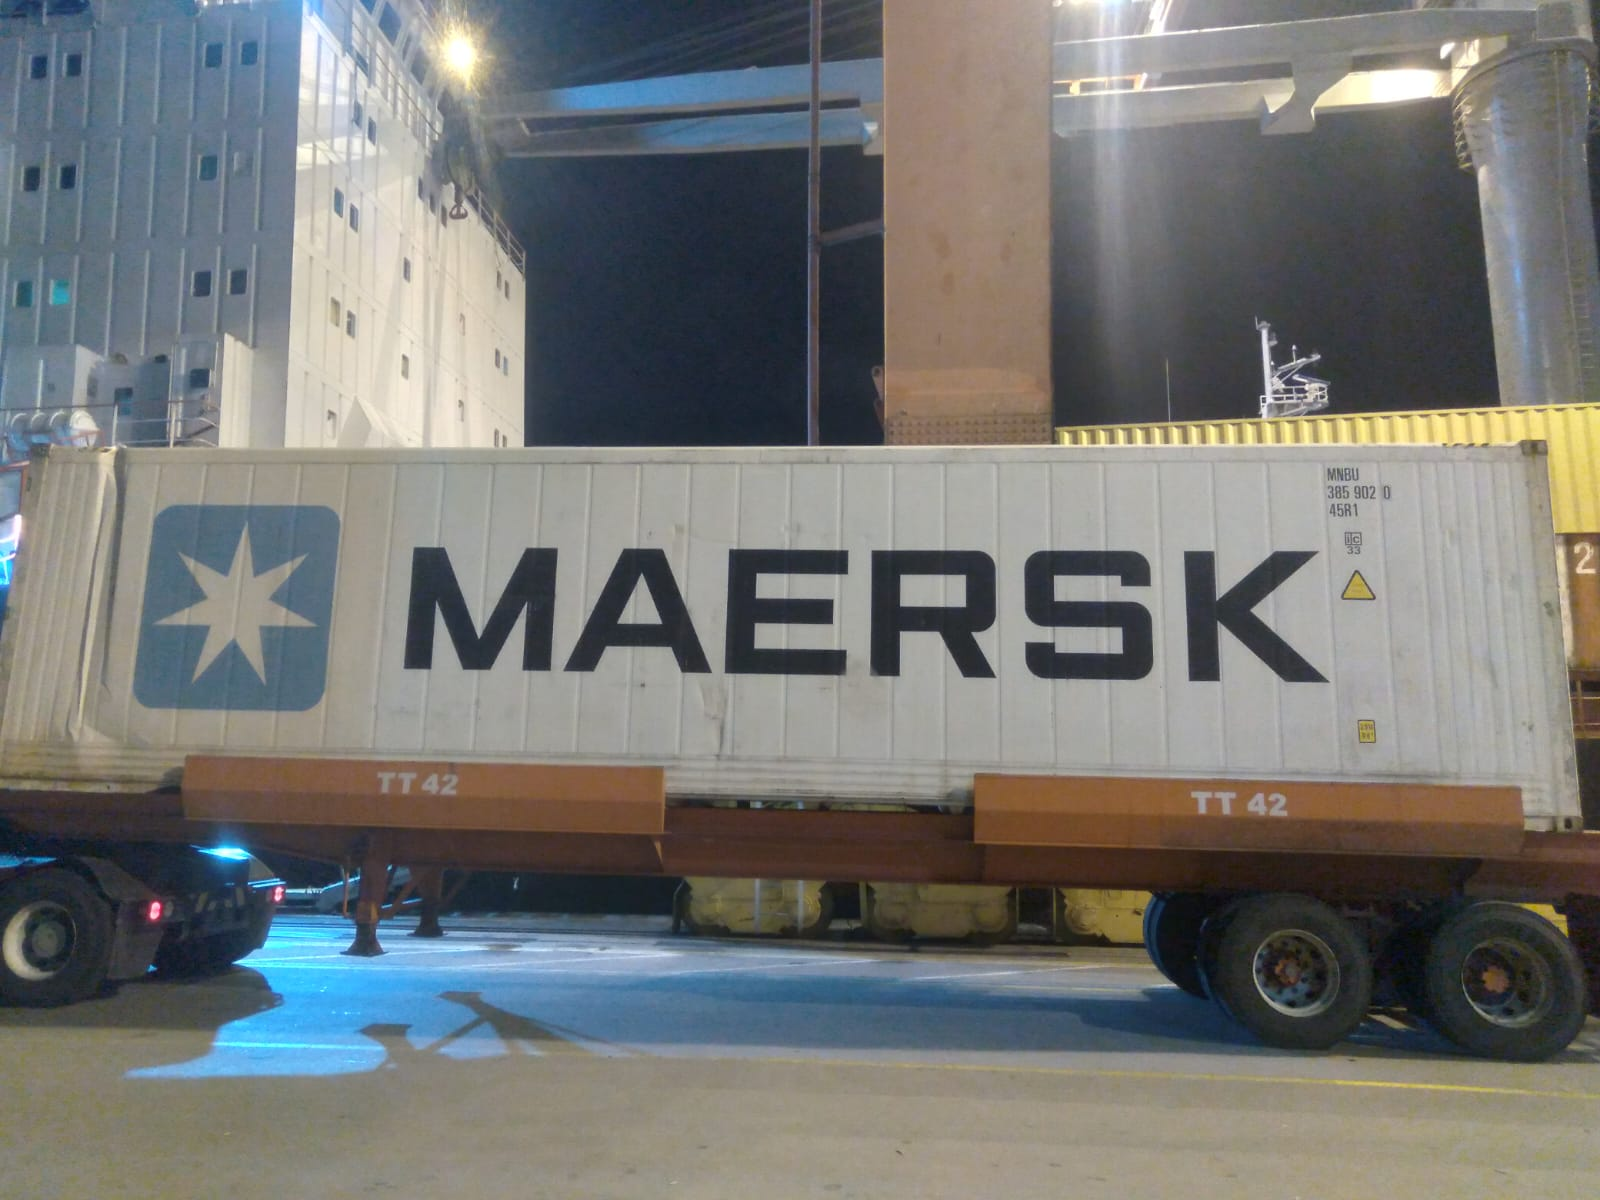bulged: (81, 445, 151, 717)
